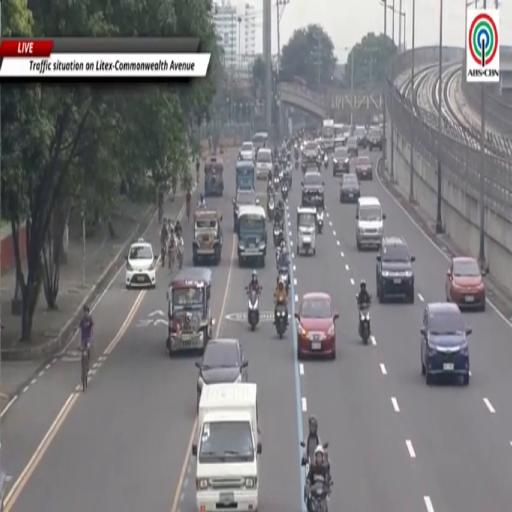car: (421, 302, 471, 385), (196, 339, 248, 409), (295, 293, 338, 359), (376, 236, 415, 303), (446, 256, 486, 311), (125, 238, 157, 289), (233, 189, 259, 231), (301, 171, 324, 206), (340, 172, 360, 202), (255, 147, 273, 179), (333, 147, 350, 175), (301, 141, 318, 169), (355, 156, 372, 180), (367, 126, 382, 151), (239, 141, 254, 161), (353, 126, 366, 148), (346, 137, 358, 157), (334, 137, 345, 148)
jeepney: (167, 268, 212, 356), (237, 205, 266, 266), (193, 208, 223, 265), (297, 207, 316, 254), (204, 156, 223, 197), (236, 160, 254, 190), (252, 133, 268, 153)
motorcycle: (308, 483, 329, 511), (246, 287, 259, 330), (300, 441, 315, 476), (358, 303, 370, 344), (274, 303, 287, 339), (278, 260, 290, 293), (273, 224, 283, 246), (267, 197, 275, 221), (177, 243, 184, 269), (316, 207, 323, 233), (273, 175, 280, 192), (282, 183, 288, 201), (316, 154, 322, 171), (294, 147, 299, 161), (324, 153, 328, 168), (295, 158, 298, 170)
truck: (192, 383, 261, 511), (321, 120, 334, 152)
